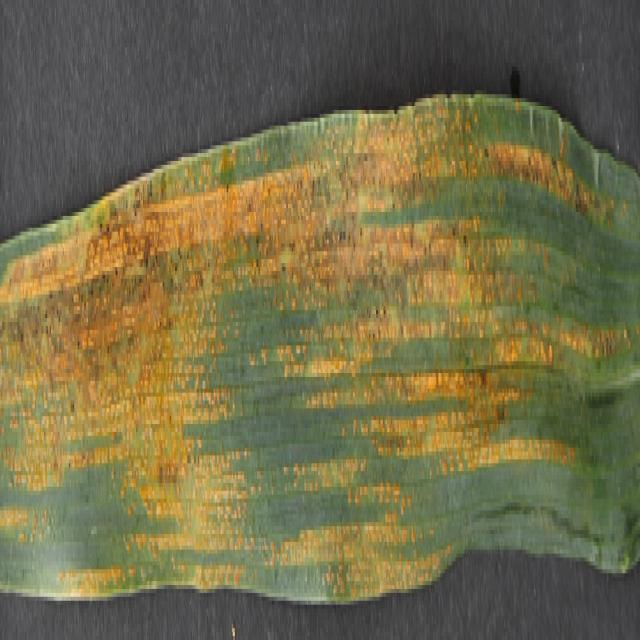leaf rust: (1, 106, 628, 605)
